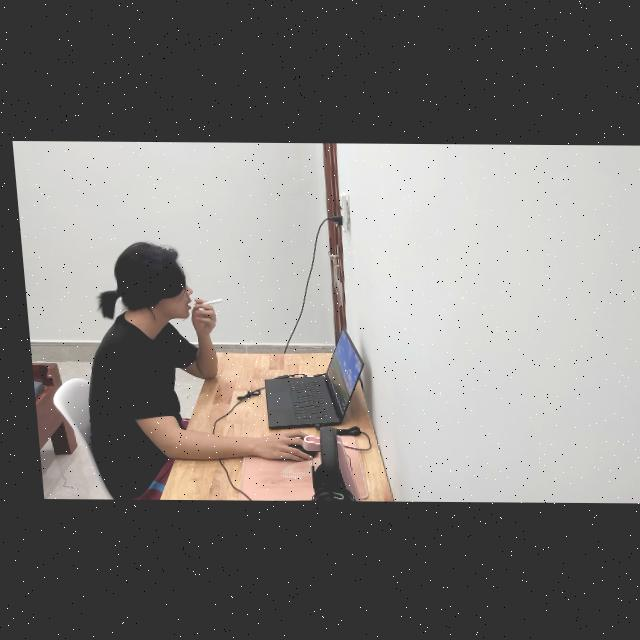cigarette: (187, 299, 217, 309)
